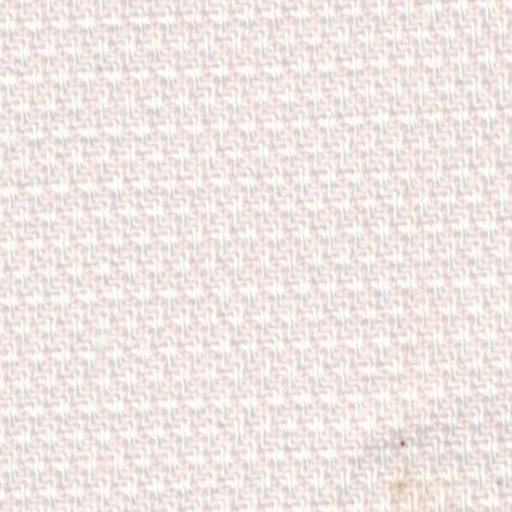WuZi: (362, 422, 456, 508)
